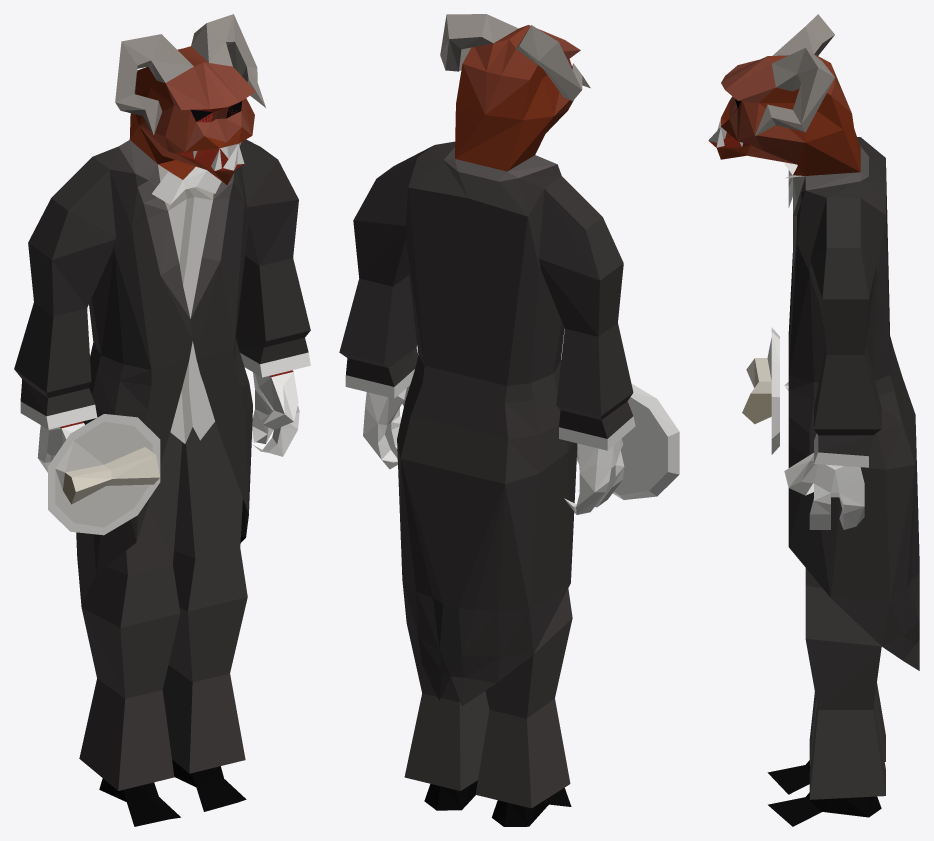
Rendered from bedroom-servant.gltf.
The picture shows the model from 3 angles, left to right: view 1: azimuth 30°, elevation 25°; view 2: azimuth 150°, elevation 25°; view 3: azimuth 270°, elevation 25°; orthographic projection. The views are drawn at different scales.
Size of the model in its own units: 76 by 199 by 50.
1 material, 1 textured.
